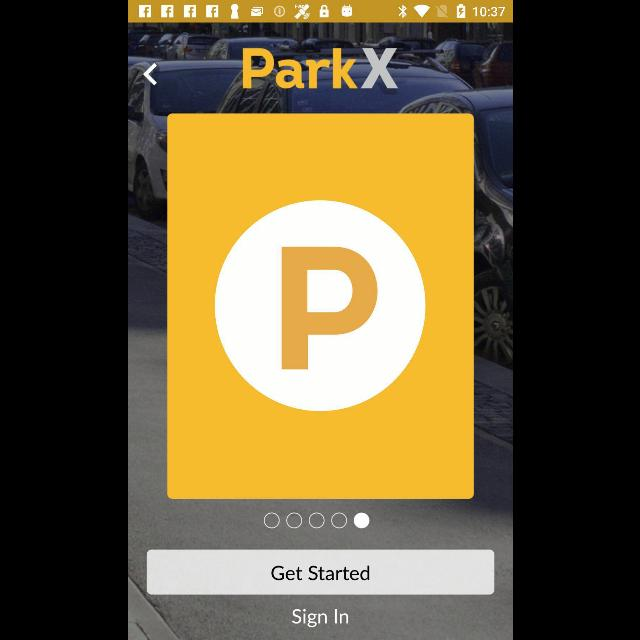backgroundimage: (128, 22, 512, 640)
icon: (142, 62, 156, 86)
image: (213, 200, 424, 410), (242, 48, 398, 90)
pageindicator: (262, 512, 370, 528)
text: (290, 608, 348, 628)
textbutton: (146, 550, 494, 594)
uppertaskbar: (128, 1, 512, 23)
